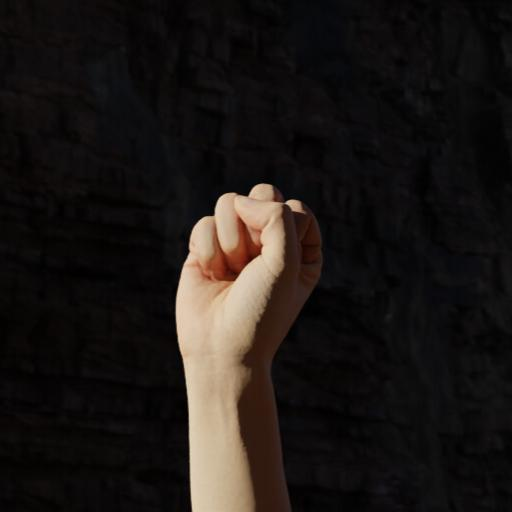S: (170, 178, 324, 374)
